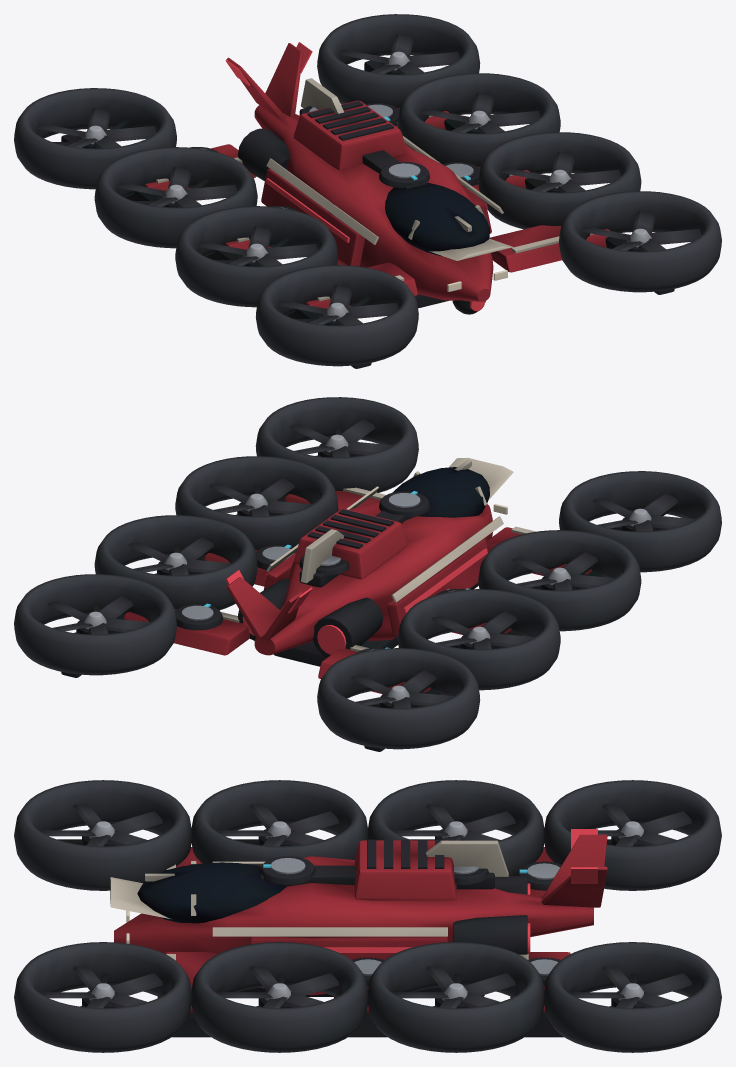
The model's file is ex_gunship_10.glb.
3 views of the same model, one above another, from view 1: azimuth 30°, elevation 25°; view 2: azimuth 150°, elevation 25°; view 3: azimuth 270°, elevation 25° (orthographic). The views are drawn at different scales.
Parts seen in each view (by area): view 1: body, rotor_0, rotor_6, rotor_3, rotor_5, rotor_4, rotor_7, rotor_2, rotor_1; view 2: body, rotor_1, rotor_5, rotor_7, rotor_3, rotor_0, rotor_2, rotor_4, rotor_6; view 3: body, rotor_6, rotor_7, rotor_0, rotor_1, rotor_2, rotor_3, rotor_4, rotor_5.
Boxes of the visible parts, <box> form: body: <box>14,14,721,368</box>; rotor_0: <box>338,33,459,74</box>; rotor_6: <box>197,225,317,266</box>; rotor_3: <box>580,210,701,251</box>; rotor_5: <box>116,166,237,207</box>; rotor_4: <box>35,107,156,148</box>; rotor_7: <box>277,284,398,325</box>; rotor_2: <box>500,151,620,192</box>; rotor_1: <box>419,92,540,133</box>; body: <box>14,397,721,751</box>; rotor_1: <box>128,537,231,575</box>; rotor_5: <box>431,611,534,649</box>; rotor_7: <box>592,493,695,531</box>; rotor_3: <box>289,419,392,457</box>; rotor_0: <box>47,596,150,634</box>; rotor_2: <box>208,478,312,516</box>; rotor_4: <box>350,670,454,708</box>; rotor_6: <box>512,552,615,590</box>; body: <box>14,780,721,1052</box>; rotor_6: <box>215,804,339,846</box>; rotor_7: <box>39,804,162,846</box>; rotor_0: <box>568,966,691,1008</box>; rotor_1: <box>392,966,515,1008</box>; rotor_2: <box>215,966,339,1008</box>; rotor_3: <box>39,966,162,1008</box>; rotor_4: <box>568,804,691,846</box>; rotor_5: <box>391,804,515,840</box>.
Bounding box in the file's own units: 13.89 × 3.65 × 17.5.
